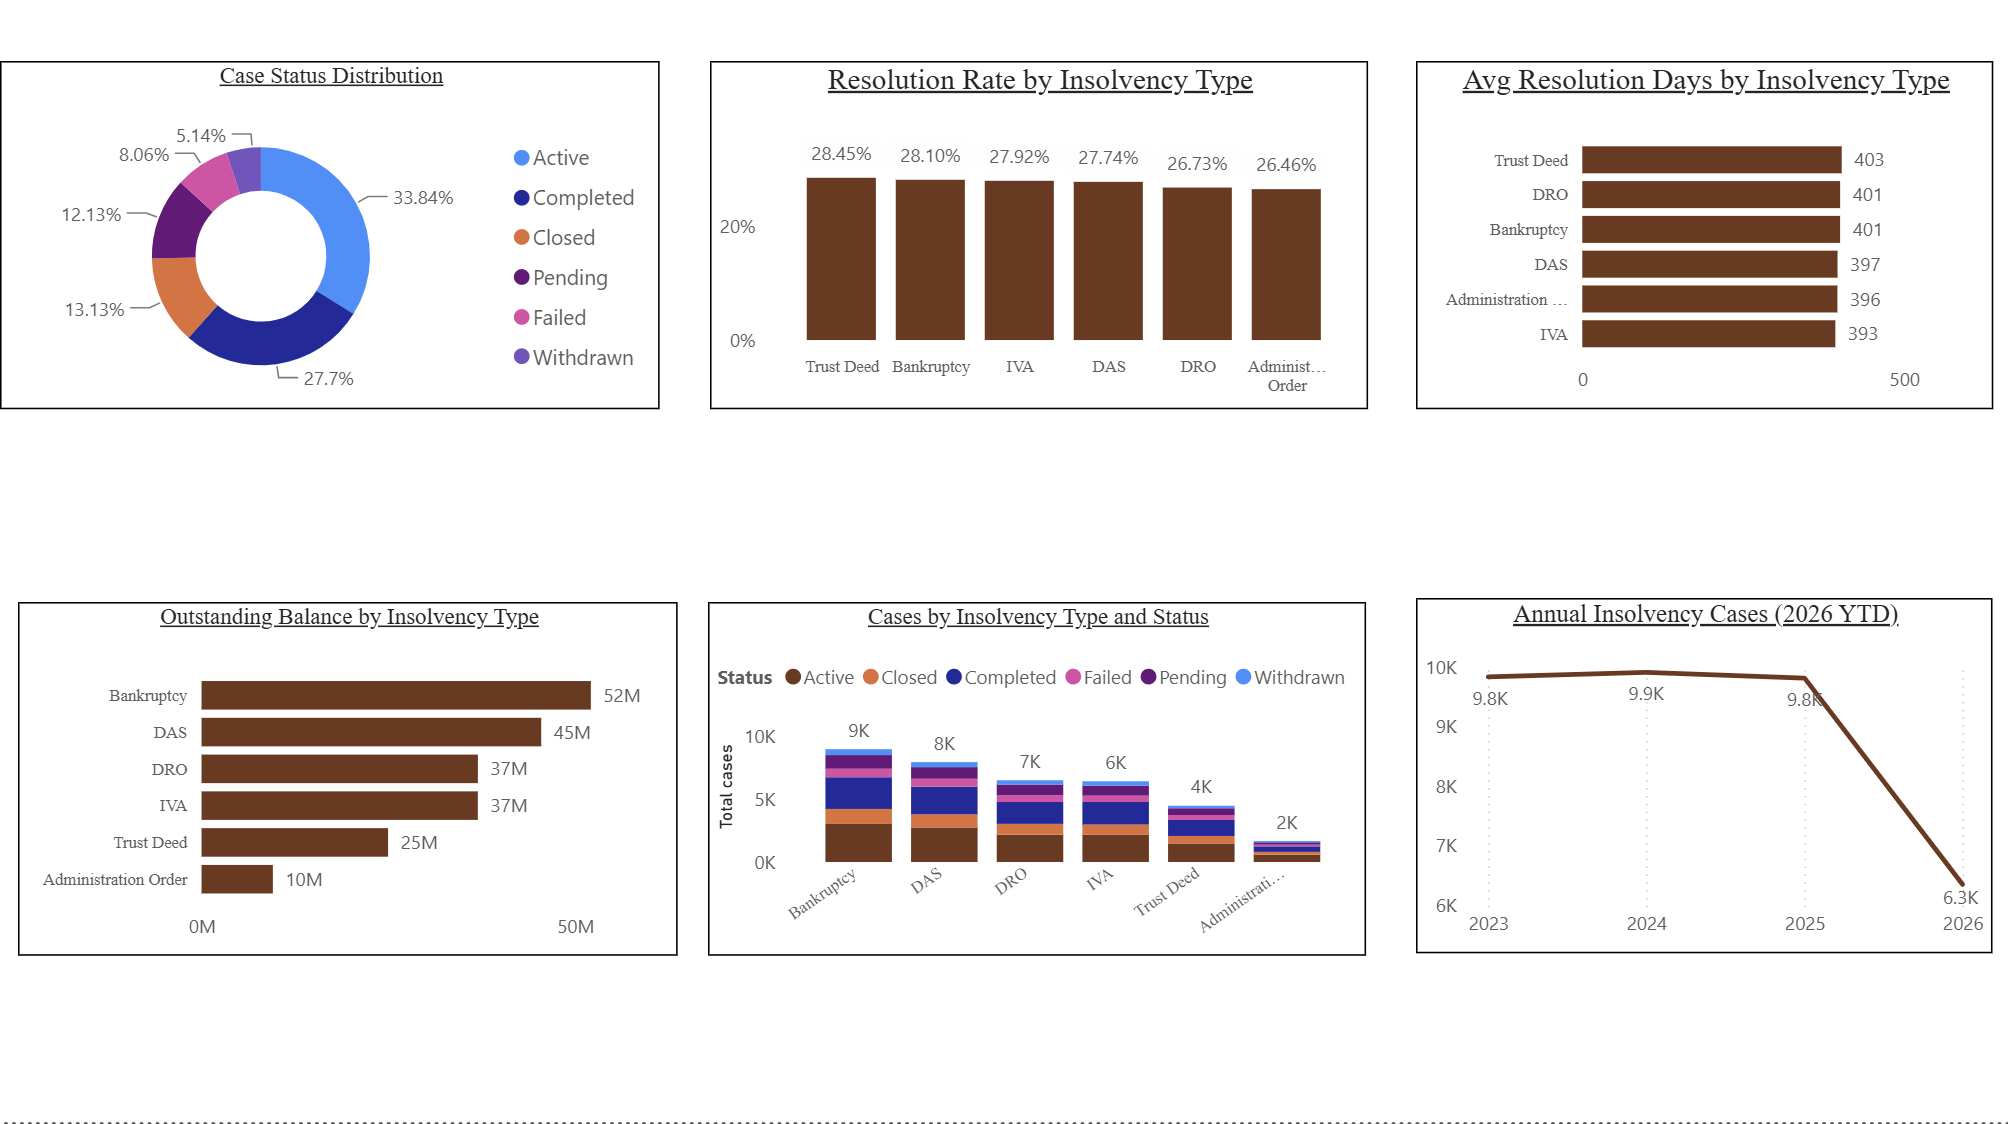

The dashboard page shown, as its layout file describes it:
{"tool":"powerbi","page":{"name":"Insolvency & Resolution Analysis","canvas":[1280,720],"ordinal":1},"visuals":[{"type":"donutChart","title":"Case Status  Distribution","fields":{"Category":["Insolvency.Status"],"Y":["Measure.Total cases"]},"box":[0,44.9,420.7,221.9],"z":0},{"type":"lineClusteredColumnComboChart","title":"Resolution Rate by Insolvency Type","fields":{"Category":["Insolvency.Insolvency_Type"],"Y":["Measure.Resolution Rate"]},"box":[452.1,44.9,419.4,221.9],"z":1000},{"type":"clusteredBarChart","title":"Avg Resolution Days by Insolvency Type","fields":{"Category":["Insolvency.Insolvency_Type"],"Y":["Measure.Avg Resolution Days"]},"box":[902.9,44.9,368.1,221.9],"z":2000},{"type":"clusteredBarChart","title":"Outstanding Balance by Insolvency Type","fields":{"Category":["Insolvency.Insolvency_Type"],"Y":["Measure.Total Outstanding Balance"]},"box":[11.5,388.6,420.7,225.7],"z":3000},{"type":"columnChart","title":"Cases by Insolvency Type and Status","fields":{"Category":["Insolvency.Insolvency_Type"],"Series":["Insolvency.Status"],"Y":["Measure.Total cases"]},"box":[451.5,388.6,419.4,225.7],"z":4000},{"type":"lineChart","title":"Annual Insolvency Cases (2026 YTD)","fields":{"Category":["Date.Date.Variation.Date Hierarchy.Year"],"Y":["Measure.CaseYtd"]},"box":[902.2,386.7,367.4,226.7],"z":5000}]}

Visuals, with their boxes in screenshot pixels (x1, y1, x2, y2), scaled from the page's 1280x720 canvas onto the 2008x1124 screenshot:
"Case Status  Distribution" donutChart: [left=0, top=70, right=660, bottom=417]
"Resolution Rate by Insolvency Type" lineClusteredColumnComboChart: [left=709, top=70, right=1367, bottom=417]
"Avg Resolution Days by Insolvency Type" clusteredBarChart: [left=1416, top=70, right=1994, bottom=417]
"Outstanding Balance by Insolvency Type" clusteredBarChart: [left=18, top=607, right=678, bottom=959]
"Cases by Insolvency Type and Status" columnChart: [left=708, top=607, right=1366, bottom=959]
"Annual Insolvency Cases (2026 YTD)" lineChart: [left=1415, top=604, right=1992, bottom=958]
